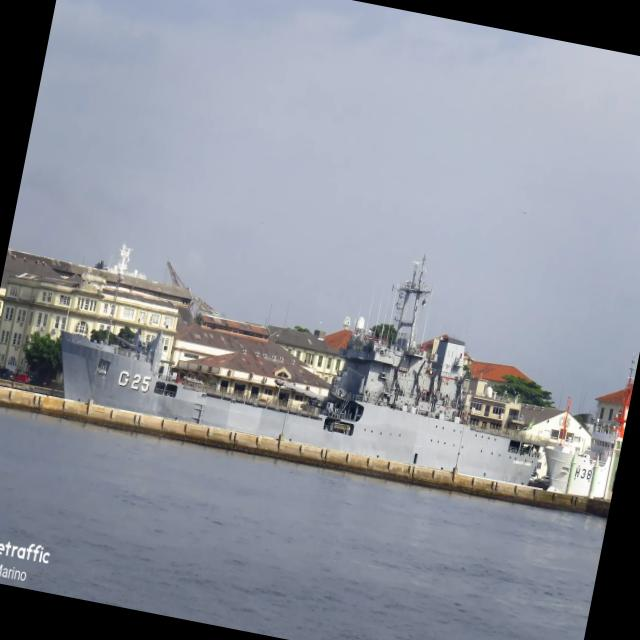Military: (61, 260, 539, 484)
